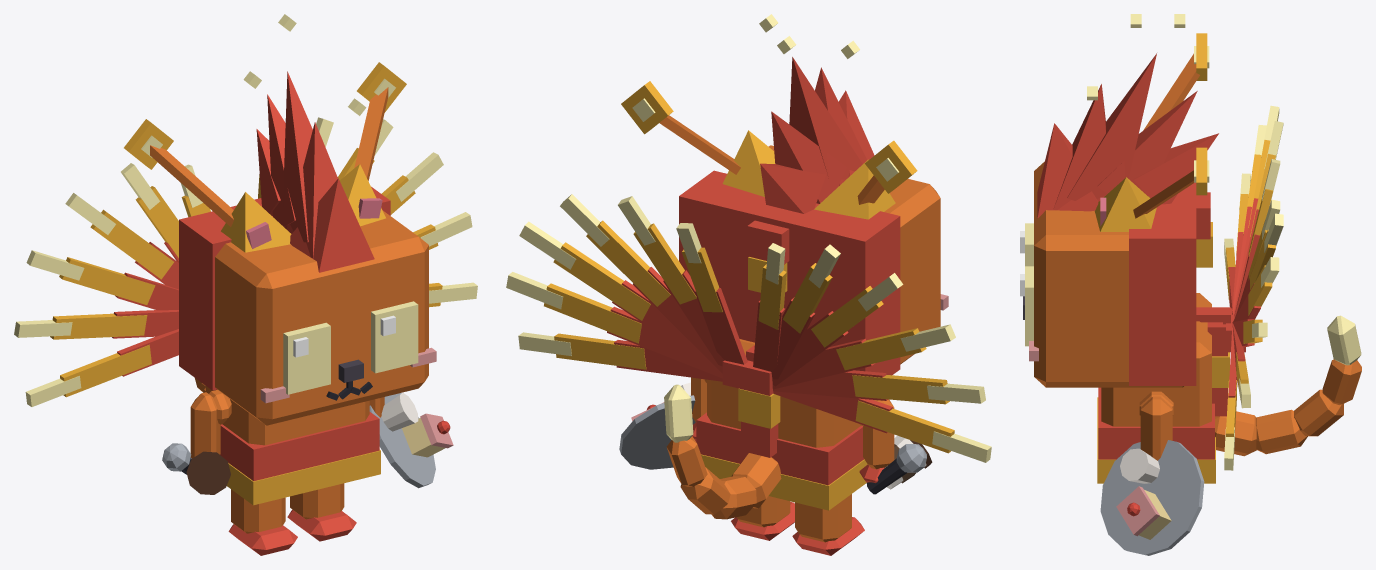
The model's file is CatCafe_Cat_Phoenix_Work.fbx.
The picture shows the model from 3 angles, left to right: view 1: azimuth 30°, elevation 25°; view 2: azimuth 150°, elevation 25°; view 3: azimuth 270°, elevation 25°; orthographic projection. The views are drawn at different scales.
Visible parts, largest first — view 1: CatCafe_Cat_Phoenix_Work_Head, CatCafe_Cat_Phoenix_Work_Wings_Glow, CatCafe_Cat_Phoenix_Work_Prop, CatCafe_Cat_Phoenix_Work_Body, CatCafe_Cat_Phoenix_Work_Held_Waiter, CatCafe_Cat_Phoenix_Work_Prop2, CatCafe_Cat_Phoenix_Work_Eye1, CatCafe_Cat_Phoenix_Work_Eye2, CatCafe_Cat_Phoenix_Work_LegB2, CatCafe_Cat_Phoenix_Work_Glow, CatCafe_Cat_Phoenix_Work_LegB1, CatCafe_Cat_Phoenix_Work_EarR (+4 smaller); view 2: CatCafe_Cat_Phoenix_Work_Wings_Glow, CatCafe_Cat_Phoenix_Work_Head, CatCafe_Cat_Phoenix_Work_Prop2, CatCafe_Cat_Phoenix_Work_Body, CatCafe_Cat_Phoenix_Work_Prop, CatCafe_Cat_Phoenix_Work_Tail, CatCafe_Cat_Phoenix_Work_Glow, CatCafe_Cat_Phoenix_Work_LegB2, CatCafe_Cat_Phoenix_Work_Held_Waiter, CatCafe_Cat_Phoenix_Work_EarR, CatCafe_Cat_Phoenix_Work_LegB1, CatCafe_Cat_Phoenix_Work_EarL (+3 smaller); view 3: CatCafe_Cat_Phoenix_Work_Head, CatCafe_Cat_Phoenix_Work_Prop, CatCafe_Cat_Phoenix_Work_Body, CatCafe_Cat_Phoenix_Work_Held_Waiter, CatCafe_Cat_Phoenix_Work_Wings_Glow, CatCafe_Cat_Phoenix_Work_Tail, CatCafe_Cat_Phoenix_Work_Prop2, CatCafe_Cat_Phoenix_Work_EarL, CatCafe_Cat_Phoenix_Work_Glow, CatCafe_Cat_Phoenix_Work_LegF1, CatCafe_Cat_Phoenix_Work_Eye1, CatCafe_Cat_Phoenix_Work_Eye2.
Boxes of the visible parts, left/top/right/bottom form: CatCafe_Cat_Phoenix_Work_Head: left=179, top=186, right=436, bottom=425; CatCafe_Cat_Phoenix_Work_Wings_Glow: left=14, top=117, right=477, bottom=406; CatCafe_Cat_Phoenix_Work_Prop: left=150, top=71, right=388, bottom=272; CatCafe_Cat_Phoenix_Work_Body: left=205, top=386, right=380, bottom=505; CatCafe_Cat_Phoenix_Work_Held_Waiter: left=369, top=393, right=453, bottom=488; CatCafe_Cat_Phoenix_Work_Prop2: left=112, top=242, right=178, bottom=376; CatCafe_Cat_Phoenix_Work_Eye1: left=371, top=301, right=418, bottom=373; CatCafe_Cat_Phoenix_Work_Eye2: left=283, top=322, right=330, bottom=394; CatCafe_Cat_Phoenix_Work_LegB2: left=228, top=489, right=297, bottom=555; CatCafe_Cat_Phoenix_Work_Glow: left=124, top=14, right=406, bottom=169; CatCafe_Cat_Phoenix_Work_LegB1: left=287, top=483, right=356, bottom=541; CatCafe_Cat_Phoenix_Work_EarR: left=221, top=192, right=291, bottom=252; CatCafe_Cat_Phoenix_Work_Wings_Glow: left=506, top=194, right=991, bottom=462; CatCafe_Cat_Phoenix_Work_Head: left=679, top=145, right=948, bottom=375; CatCafe_Cat_Phoenix_Work_Prop2: left=607, top=267, right=892, bottom=433; CatCafe_Cat_Phoenix_Work_Body: left=696, top=339, right=867, bottom=510; CatCafe_Cat_Phoenix_Work_Prop: left=659, top=57, right=884, bottom=213; CatCafe_Cat_Phoenix_Work_Tail: left=664, top=384, right=781, bottom=519; CatCafe_Cat_Phoenix_Work_Glow: left=621, top=14, right=917, bottom=193; CatCafe_Cat_Phoenix_Work_LegB2: left=792, top=494, right=864, bottom=555; CatCafe_Cat_Phoenix_Work_Held_Waiter: left=619, top=382, right=695, bottom=469; CatCafe_Cat_Phoenix_Work_EarR: left=814, top=159, right=895, bottom=219; CatCafe_Cat_Phoenix_Work_LegB1: left=731, top=496, right=794, bottom=540; CatCafe_Cat_Phoenix_Work_EarL: left=722, top=130, right=775, bottom=196; CatCafe_Cat_Phoenix_Work_Head: left=1023, top=161, right=1212, bottom=387; CatCafe_Cat_Phoenix_Work_Prop: left=1037, top=53, right=1218, bottom=218; CatCafe_Cat_Phoenix_Work_Body: left=1097, top=293, right=1229, bottom=483; CatCafe_Cat_Phoenix_Work_Held_Waiter: left=1100, top=440, right=1204, bottom=555; CatCafe_Cat_Phoenix_Work_Wings_Glow: left=1224, top=105, right=1283, bottom=470; CatCafe_Cat_Phoenix_Work_Tail: left=1215, top=315, right=1361, bottom=456; CatCafe_Cat_Phoenix_Work_Prop2: left=1196, top=198, right=1260, bottom=397; CatCafe_Cat_Phoenix_Work_EarL: left=1094, top=177, right=1156, bottom=231; CatCafe_Cat_Phoenix_Work_Glow: left=1087, top=14, right=1209, bottom=195; CatCafe_Cat_Phoenix_Work_LegF1: left=1140, top=396, right=1172, bottom=460; CatCafe_Cat_Phoenix_Work_Eye1: left=1020, top=266, right=1033, bottom=346; CatCafe_Cat_Phoenix_Work_Eye2: left=1020, top=223, right=1033, bottom=266.
Bounding box in the file's own units: 2.5 × 2.66 × 1.62.
1 material, 1 textured.
